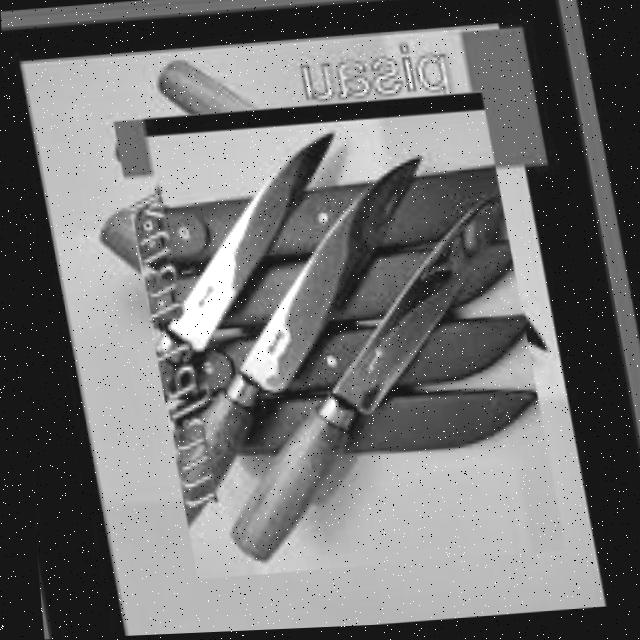knife: (197, 195, 527, 570), (149, 156, 450, 527), (134, 130, 356, 410)
